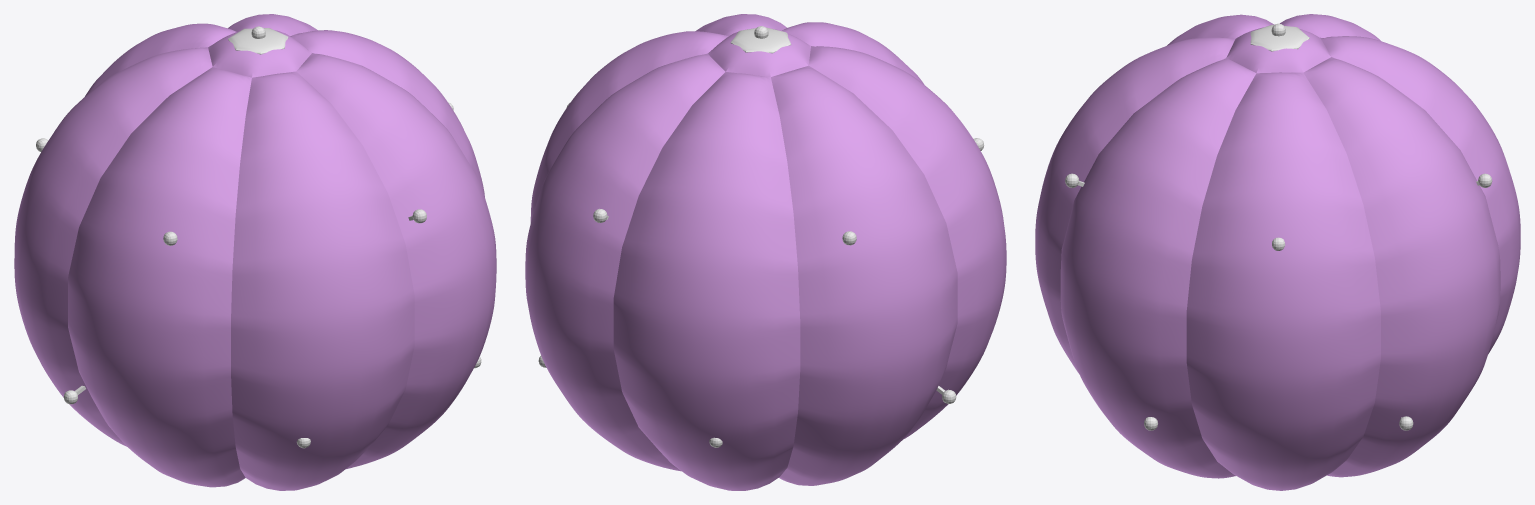
File: ORB.fbx
3 views of the same model, side by side, from view 1: azimuth 30°, elevation 25°; view 2: azimuth 150°, elevation 25°; view 3: azimuth 270°, elevation 25° (orthographic).
Visible parts, largest first — view 1: ClothApplied.084, ClothApplied.040; view 2: ClothApplied.084, ClothApplied.040; view 3: ClothApplied.084, ClothApplied.040.
Part boxes in pixels (left/top/right/bottom): ClothApplied.084: left=14, top=14, right=496, bottom=490; ClothApplied.040: left=36, top=26, right=481, bottom=448; ClothApplied.084: left=525, top=14, right=1006, bottom=490; ClothApplied.040: left=538, top=26, right=984, bottom=447; ClothApplied.084: left=1035, top=14, right=1520, bottom=490; ClothApplied.040: left=1065, top=23, right=1492, bottom=430.
Size of the model in its own units: 427 by 443 by 431.
